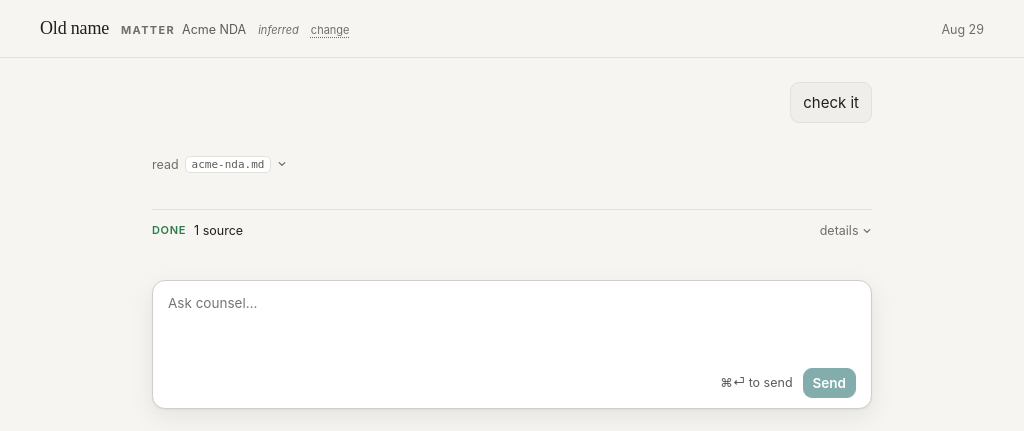
Scenario: v2 Chat, rename and matter link › Escape puts the old title back and sends nothing
Click the button "Old name" at (74, 29), box 40,17 -> 109,41
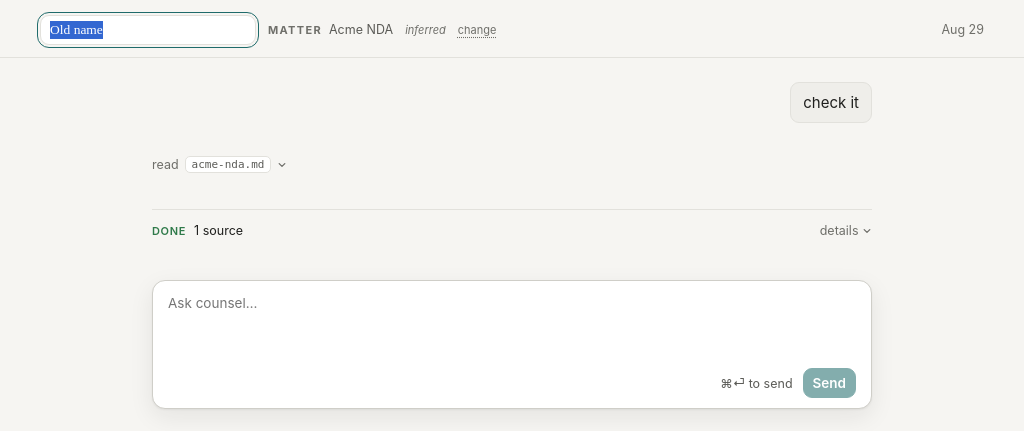
Type "zzz" into the field named "Conversation title" at (148, 30), box 40,15 -> 256,45
Then press Escape
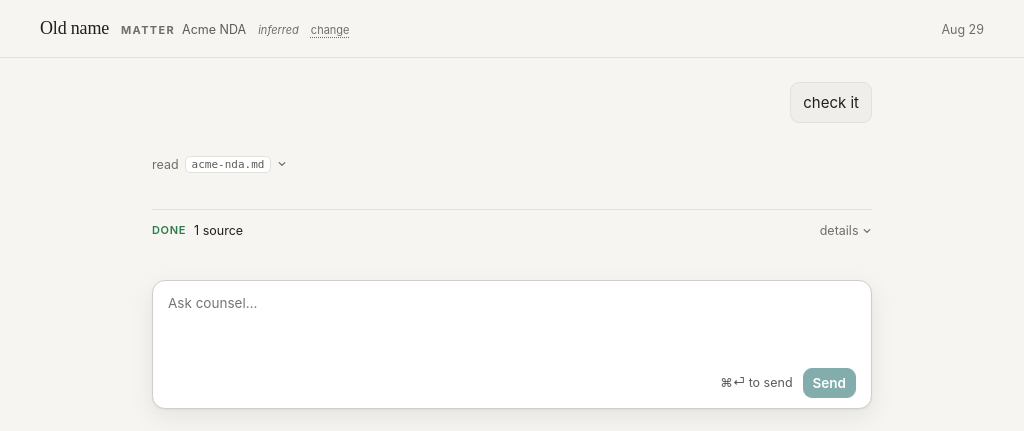
expect the button "Old name" is shown: met, box 40,17 -> 109,41
